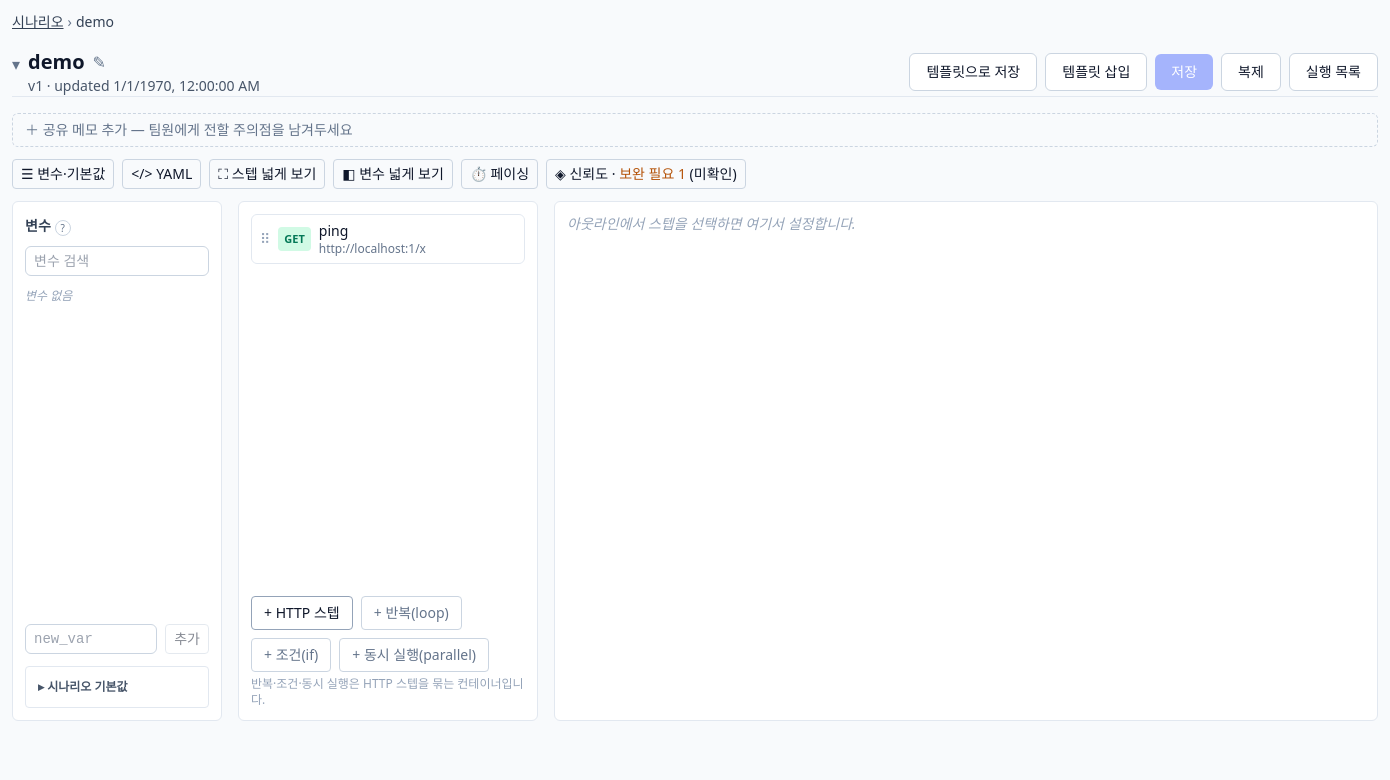
Scenario: ScenarioEditPage 이름 라이브 표시 + 인라인 편집 (R7/R8) › Escape는 취소 — 입력 닫히고 이름 무변화
Expected: the heading "demo" is shown, [28,48,84,76]
Click the button named "시나리오 이름 편집" at (99, 62), box [92,50,106,74]
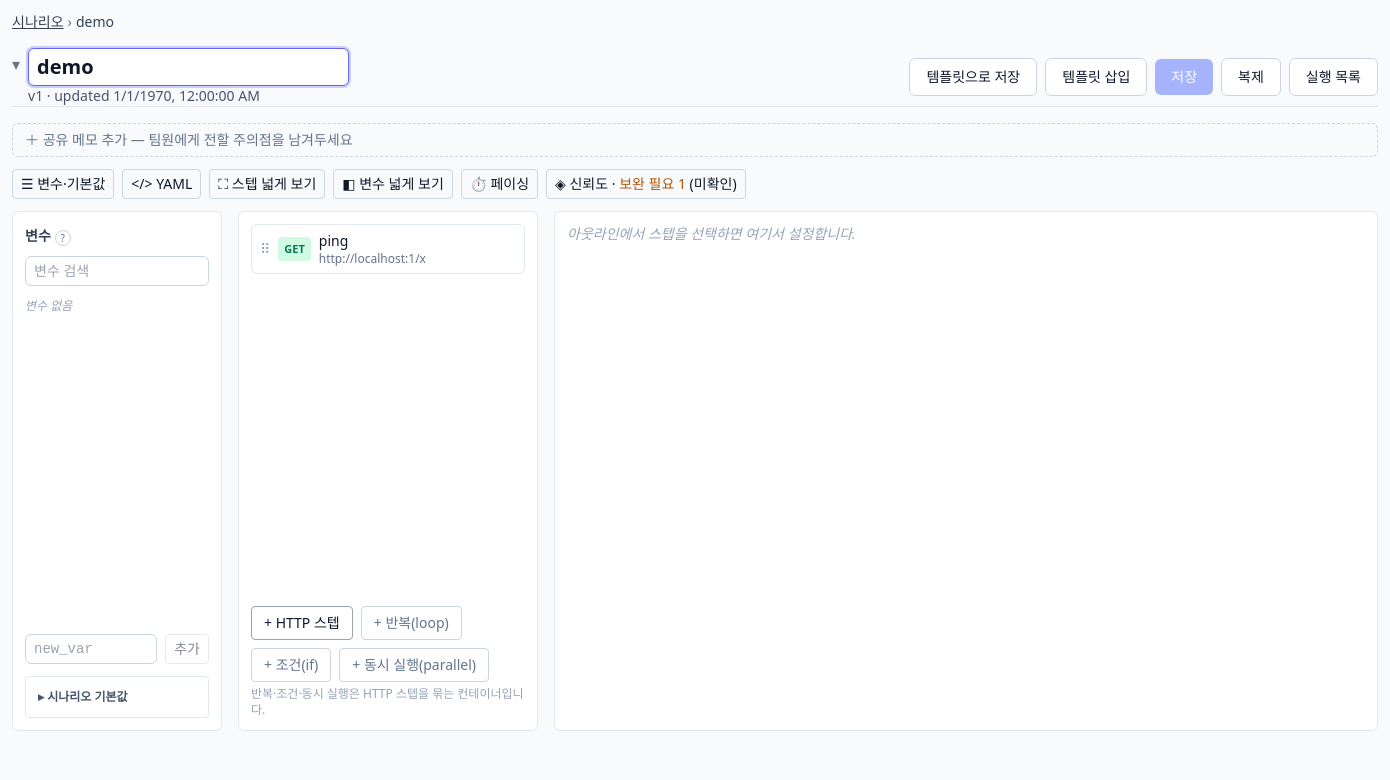
Replace the text in the field named "시나리오 이름" with "버릴이름" at (188, 67), box [28,48,349,86]
Then press Escape
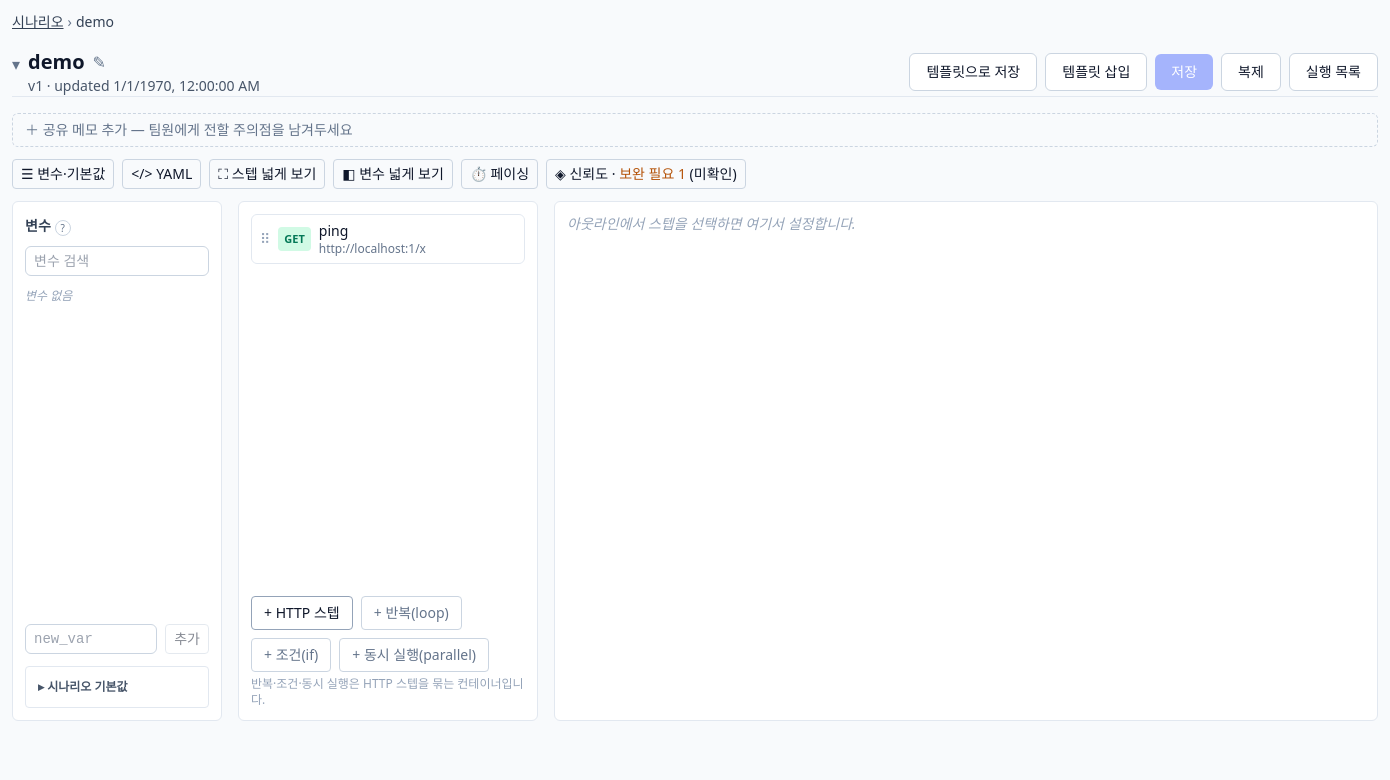
Expected: the button "저장" is disabled, [1155,54,1213,90]
Expected: the heading "demo" is shown, [28,48,84,76]
